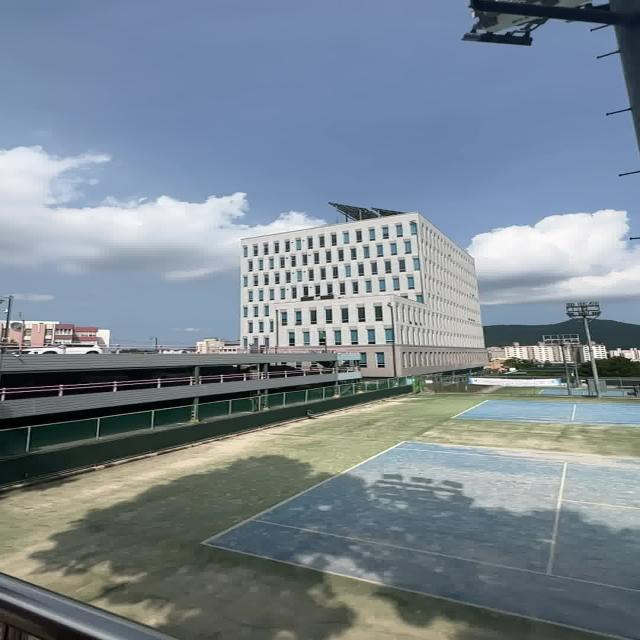building: (222, 201, 489, 371)
